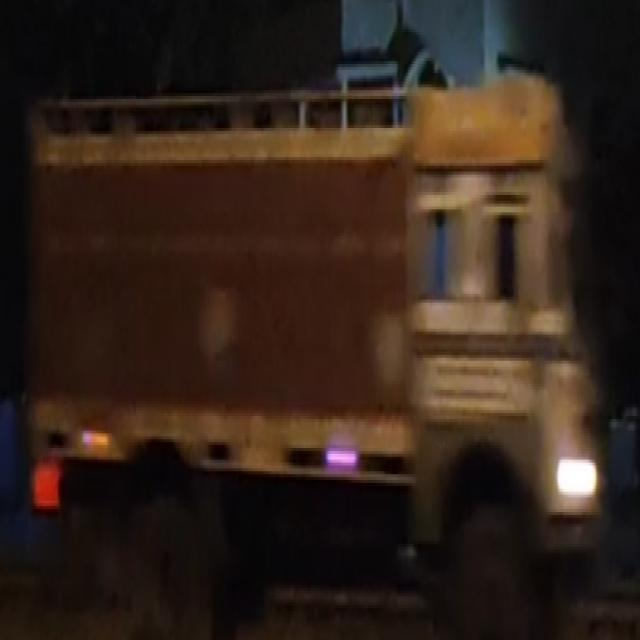truck: (21, 52, 613, 640)
